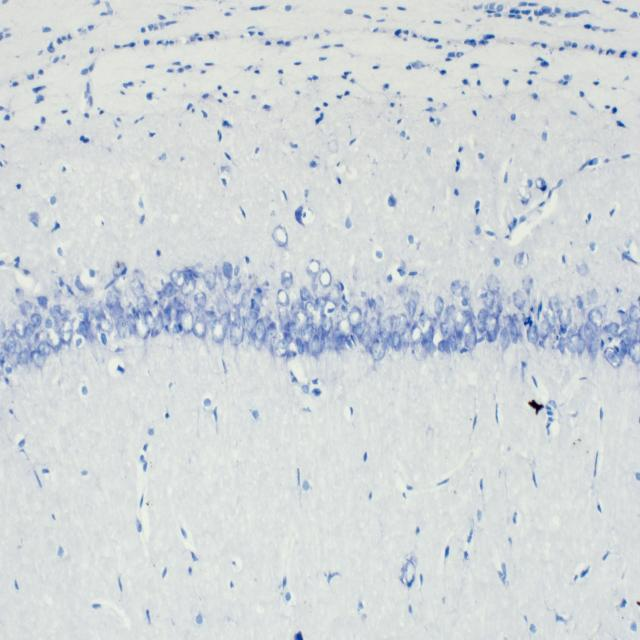neuron: (163, 301, 186, 333), (133, 310, 151, 339), (454, 310, 472, 337), (499, 315, 520, 336), (58, 317, 73, 346), (229, 317, 244, 345), (46, 328, 62, 354), (115, 316, 132, 340), (89, 337, 104, 364), (603, 347, 622, 368), (536, 312, 550, 340), (588, 335, 601, 365), (485, 314, 498, 343), (150, 311, 163, 339), (393, 312, 408, 336), (626, 318, 640, 343), (380, 314, 393, 340), (336, 318, 352, 339), (413, 341, 429, 362), (490, 291, 502, 319), (211, 320, 225, 343), (332, 328, 346, 351), (181, 276, 197, 296), (370, 340, 386, 360), (180, 310, 193, 334), (526, 323, 540, 345), (367, 316, 379, 341), (466, 326, 478, 351), (450, 278, 465, 298), (585, 286, 598, 309), (278, 310, 292, 331), (348, 305, 362, 326), (30, 350, 46, 368), (159, 282, 177, 298), (477, 308, 489, 332), (217, 295, 230, 317), (266, 320, 277, 346), (91, 302, 106, 321), (130, 277, 145, 296), (193, 306, 212, 321), (77, 320, 91, 340), (276, 288, 290, 308), (295, 310, 309, 330), (328, 286, 342, 306), (486, 274, 500, 294), (512, 290, 526, 310), (558, 308, 572, 328), (144, 310, 156, 333), (254, 318, 266, 341), (24, 323, 35, 348), (219, 311, 230, 336), (588, 310, 603, 328), (136, 295, 150, 314), (170, 268, 184, 287), (310, 310, 324, 329), (318, 269, 332, 288), (514, 251, 528, 270), (203, 270, 216, 290), (193, 319, 206, 339), (226, 276, 242, 292), (629, 340, 640, 363), (14, 317, 26, 338), (51, 304, 65, 322), (75, 306, 89, 324), (274, 331, 288, 349), (290, 298, 304, 316), (312, 334, 322, 359), (439, 321, 452, 340), (321, 315, 332, 337), (6, 352, 21, 368), (290, 326, 302, 346), (300, 286, 315, 302), (312, 297, 328, 312), (410, 324, 422, 344), (569, 333, 581, 353), (105, 290, 118, 308), (192, 261, 205, 279), (280, 271, 293, 289), (421, 325, 434, 343), (500, 326, 509, 352), (305, 300, 316, 321), (522, 274, 533, 295), (126, 313, 136, 336), (401, 328, 410, 353), (98, 318, 112, 334), (245, 310, 258, 327), (242, 330, 252, 352), (254, 327, 264, 349), (319, 333, 330, 353), (546, 306, 556, 328), (18, 348, 30, 366), (159, 295, 171, 313), (302, 325, 314, 343), (549, 295, 561, 313), (604, 322, 619, 336), (4, 334, 15, 353), (38, 340, 51, 356), (194, 292, 207, 308), (34, 329, 46, 346), (288, 338, 298, 358), (434, 296, 444, 316), (484, 290, 494, 310), (222, 261, 233, 279), (510, 322, 519, 344), (629, 304, 640, 322), (308, 259, 321, 274), (112, 304, 124, 320), (428, 318, 440, 334), (564, 337, 576, 353), (620, 328, 632, 344), (355, 320, 366, 337), (0, 342, 9, 362), (20, 301, 32, 316), (241, 290, 251, 308), (250, 298, 262, 313), (295, 336, 304, 356), (392, 332, 401, 352), (397, 283, 409, 298), (436, 340, 451, 352), (618, 338, 627, 358), (409, 290, 420, 306), (30, 314, 42, 328), (91, 316, 99, 337), (361, 332, 373, 346), (0, 320, 7, 342), (408, 299, 416, 318), (461, 285, 471, 300), (368, 295, 376, 313), (620, 311, 629, 327), (230, 296, 238, 313), (558, 336, 565, 355), (37, 296, 48, 308), (445, 304, 457, 315), (205, 310, 218, 320), (577, 339, 585, 355), (584, 322, 592, 338), (274, 347, 288, 356), (14, 339, 22, 354), (419, 310, 426, 327), (450, 339, 458, 353), (44, 318, 52, 330), (577, 299, 584, 309)
